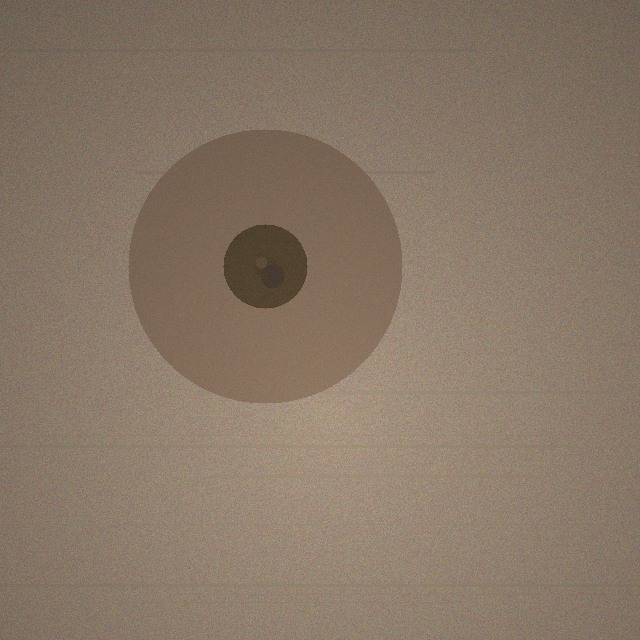cold_weld: (128, 129, 402, 403)
